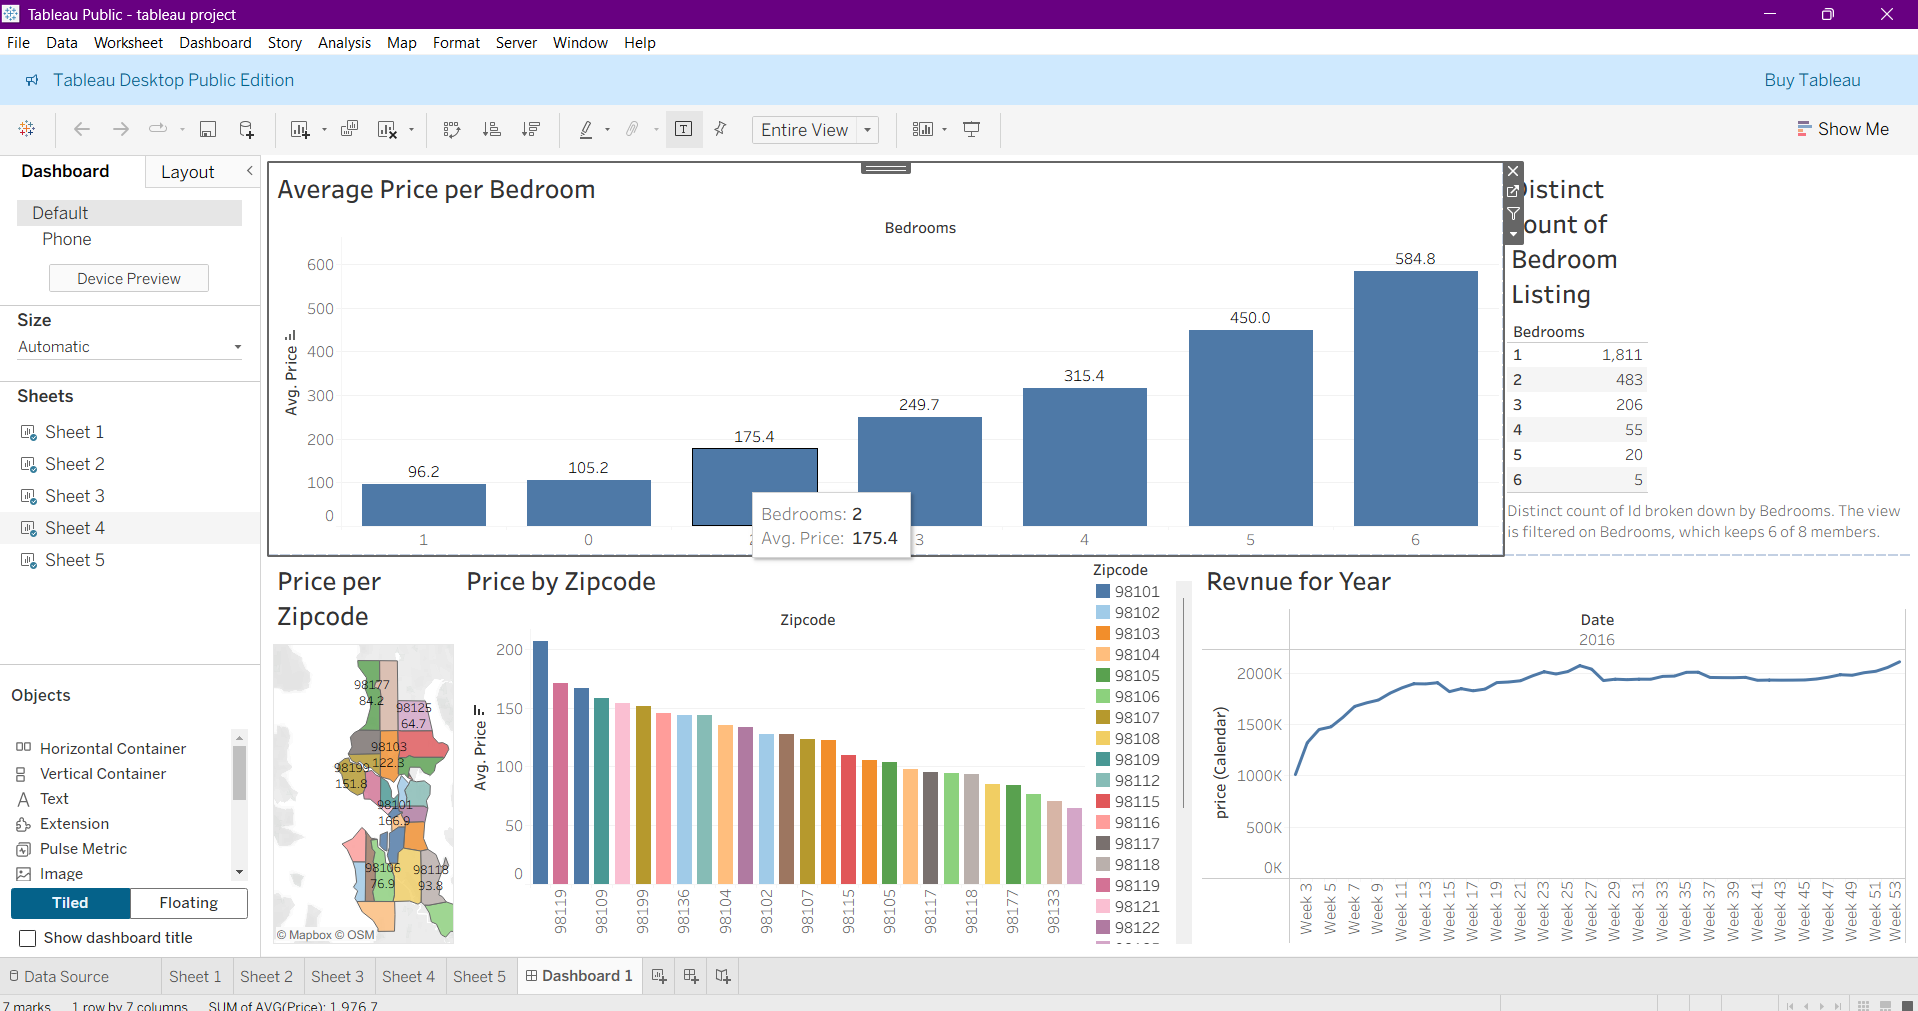

What the dashboard file says about the page in this screenshot:
{"tool":"tableau","page":{"name":"Dashboard 1","canvas":[1000,1000],"units":"permille","ordinal":0},"visuals":[{"type":"worksheet","title":"Sheet 4","mark":"Automatic","rows":["price"],"cols":["bedrooms"],"box":[4.8,10,744.7,489.4]},{"type":"worksheet","title":"Sheet 5","mark":"Automatic","rows":["bedrooms"],"box":[749.6,10,245.6,489.4]},{"type":"worksheet","title":"Sheet 2","mark":"Multipolygon","box":[4.8,499.4,114.1,490.6]},{"type":"worksheet","title":"Sheet 1","mark":"Automatic","rows":["price"],"cols":["zipcode"],"box":[118.9,499.4,380.8,490.6]},{"type":"legend","title":"Sheet 1","param":"[federated.0fto2bm0fdokw415yq8141ut7faq].[none:zipcode:ok]","box":[499.7,499.4,65.8,490.6]},{"type":"worksheet","title":"Sheet 3","mark":"Automatic","rows":["price (Calendar)"],"cols":["date","date"],"box":[565.5,499.4,429.7,490.6]}]}

Visuals, with their boxes on the dashboard's canvas, which has no fixed pixel size, in thousandths of its width and height (x1, y1, x2, y2). These are canvas units, not pixel positions in the 1918x1011 screenshot, which may show the page scaled, cropped or inside an application window:
"Sheet 4" worksheet: <region>5, 10, 750, 499</region>
"Sheet 5" worksheet: <region>750, 10, 995, 499</region>
"Sheet 2" worksheet (Multipolygon marks): <region>5, 499, 119, 990</region>
"Sheet 1" worksheet: <region>119, 499, 500, 990</region>
"Sheet 1" legend: <region>500, 499, 566, 990</region>
"Sheet 3" worksheet: <region>566, 499, 995, 990</region>
